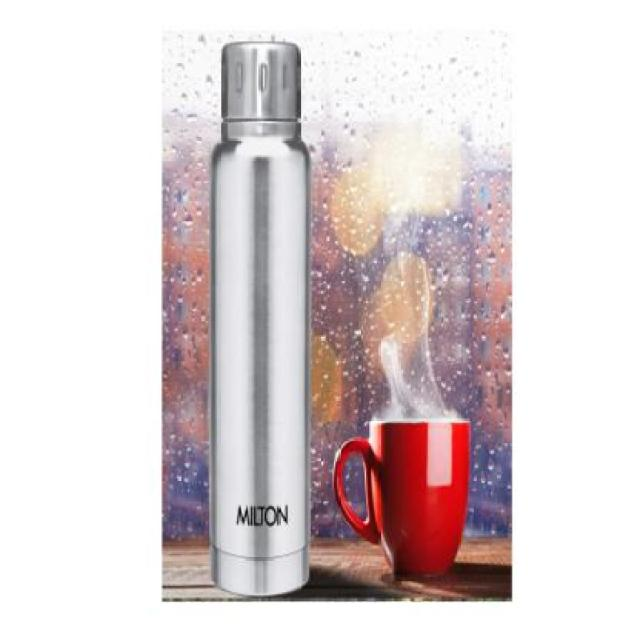Drinking: (196, 28, 315, 600)
